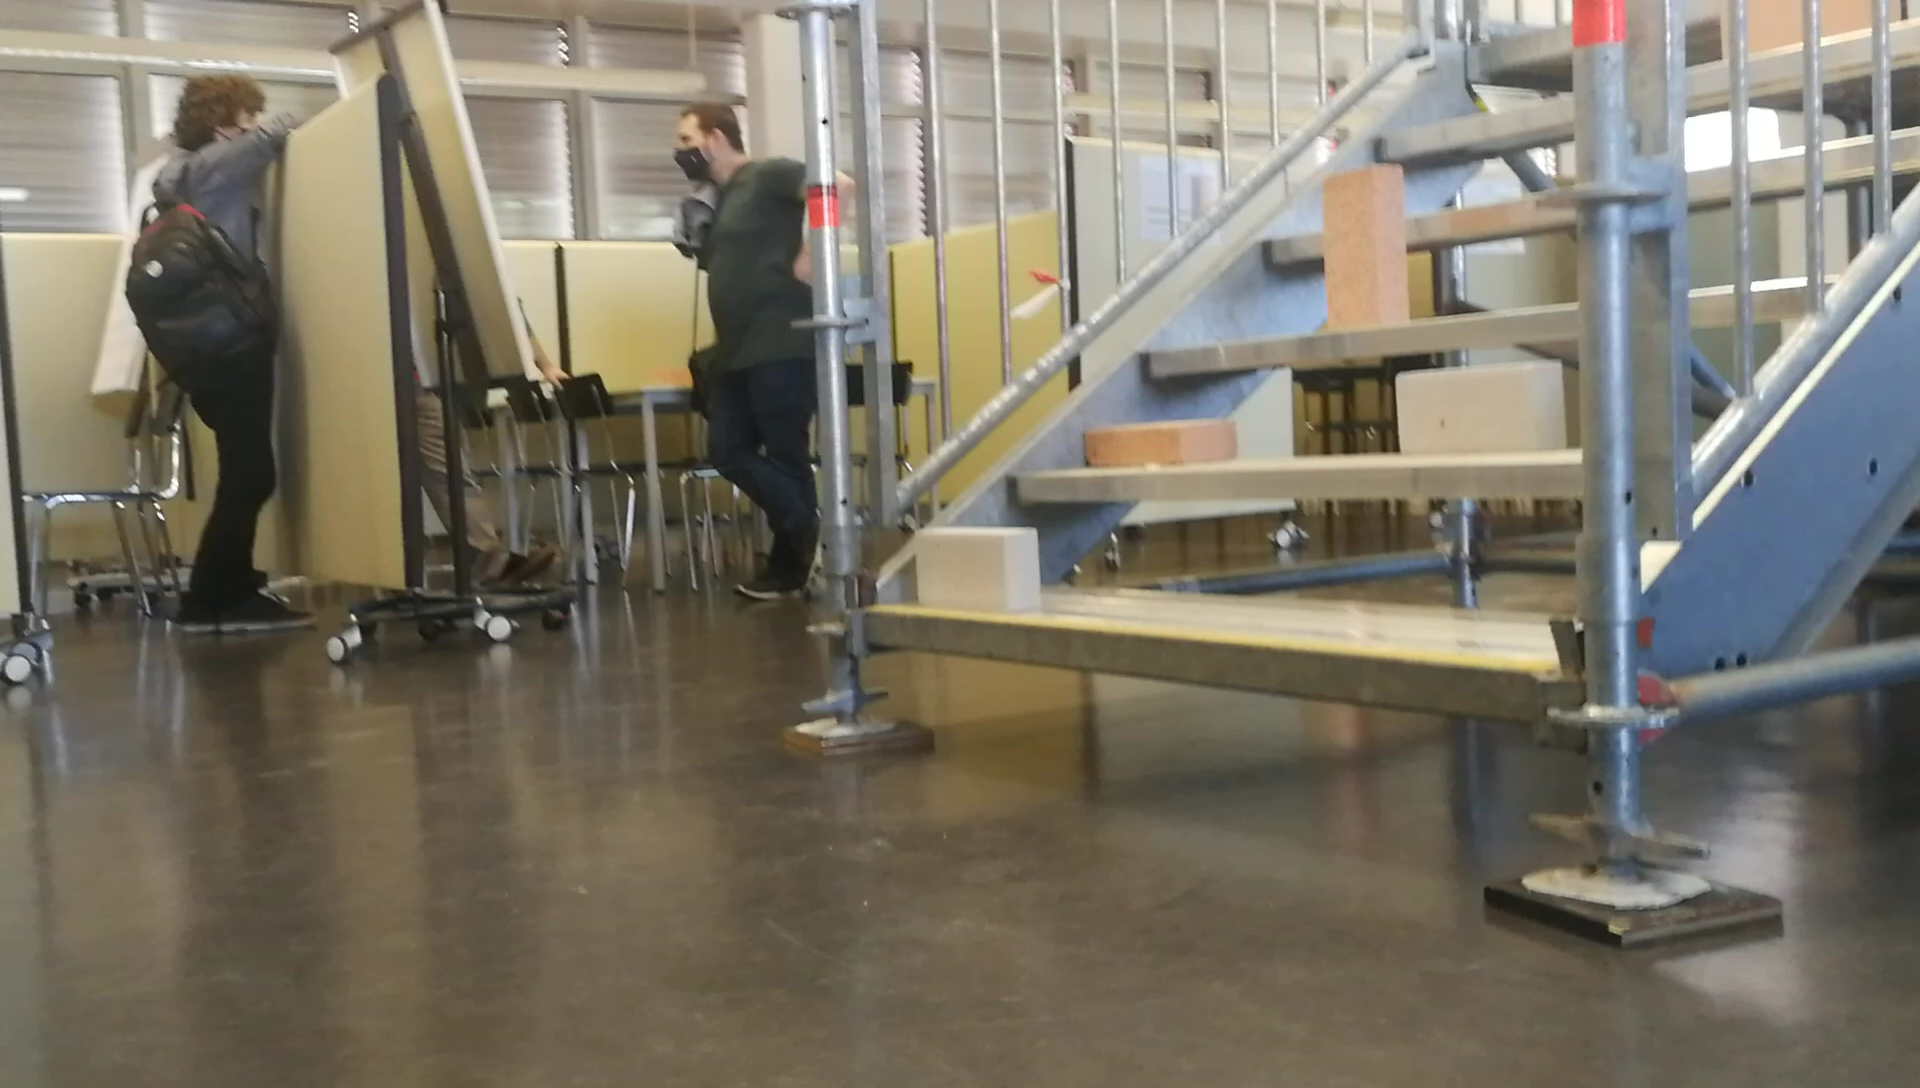brick: (1395, 363, 1565, 458), (1325, 164, 1404, 328), (916, 528, 1036, 609), (1083, 419, 1236, 466)
edge: (865, 608, 1538, 742)
stairs: (779, 0, 1635, 953)
